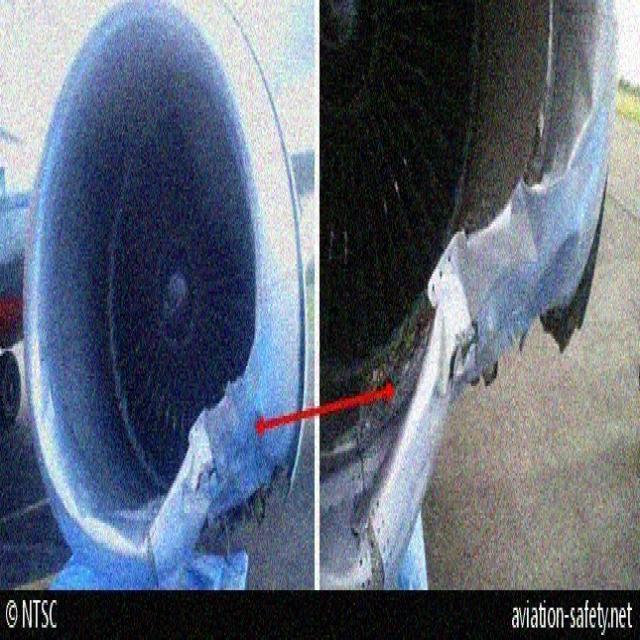dent: (502, 174, 554, 269), (569, 58, 600, 170), (448, 239, 480, 329)
